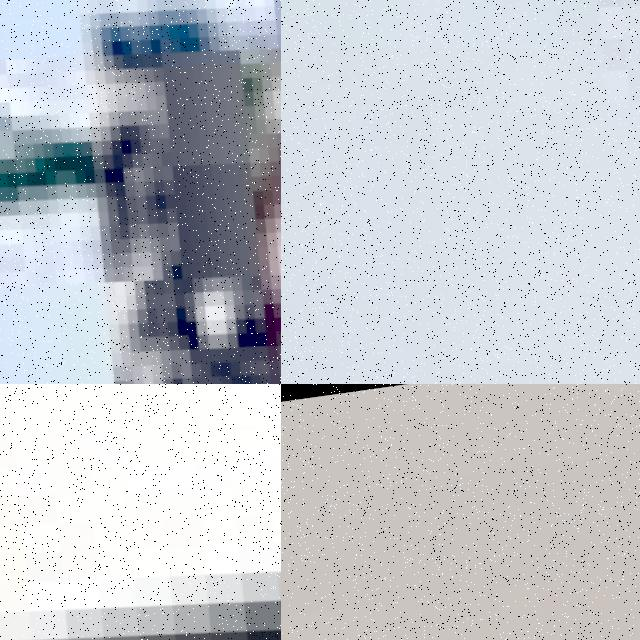0: (0, 0, 281, 384)
drone: (281, 0, 640, 384), (0, 384, 281, 640)
